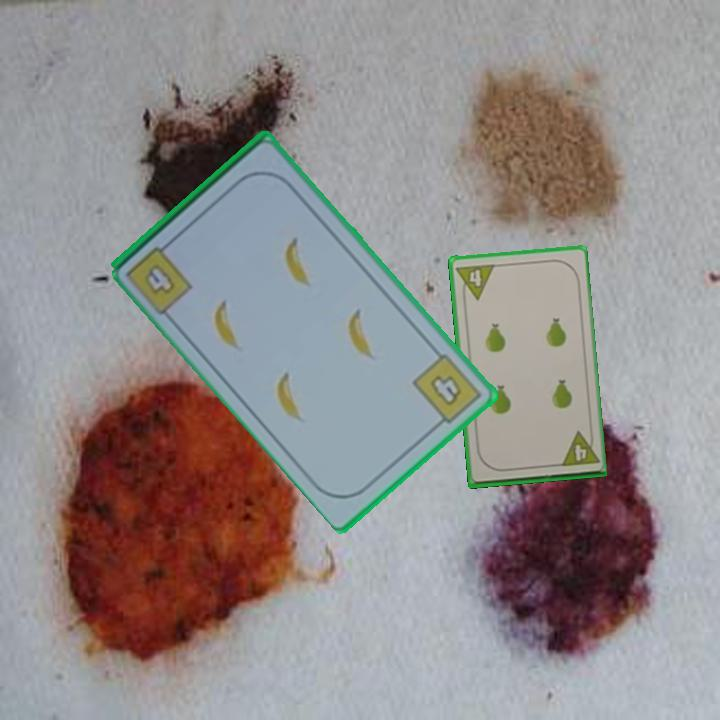4b: (409, 350, 485, 432), (145, 264, 176, 294)
4p: (453, 260, 497, 303), (556, 427, 601, 469)
